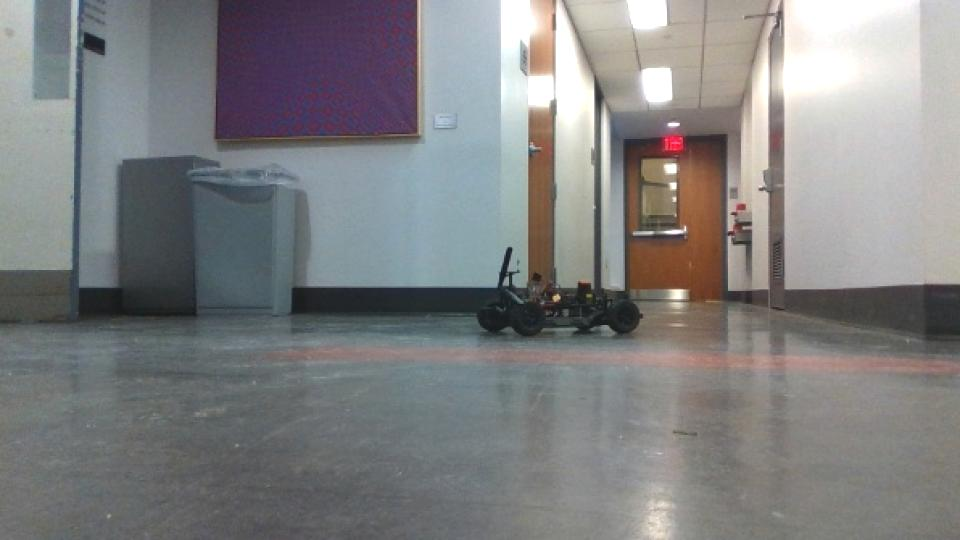car: (474, 244, 648, 340)
